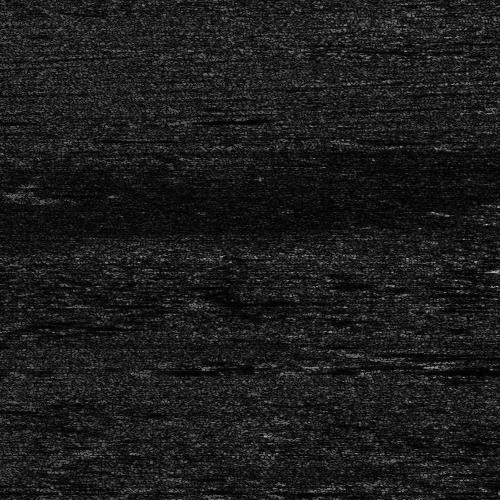object: (354, 363, 417, 374), (305, 346, 378, 355), (115, 365, 156, 374), (429, 358, 460, 369), (375, 354, 416, 357), (495, 266, 500, 269)
shadow: (341, 346, 500, 355), (386, 363, 500, 374), (136, 365, 249, 374), (444, 358, 500, 369), (396, 354, 500, 357)
